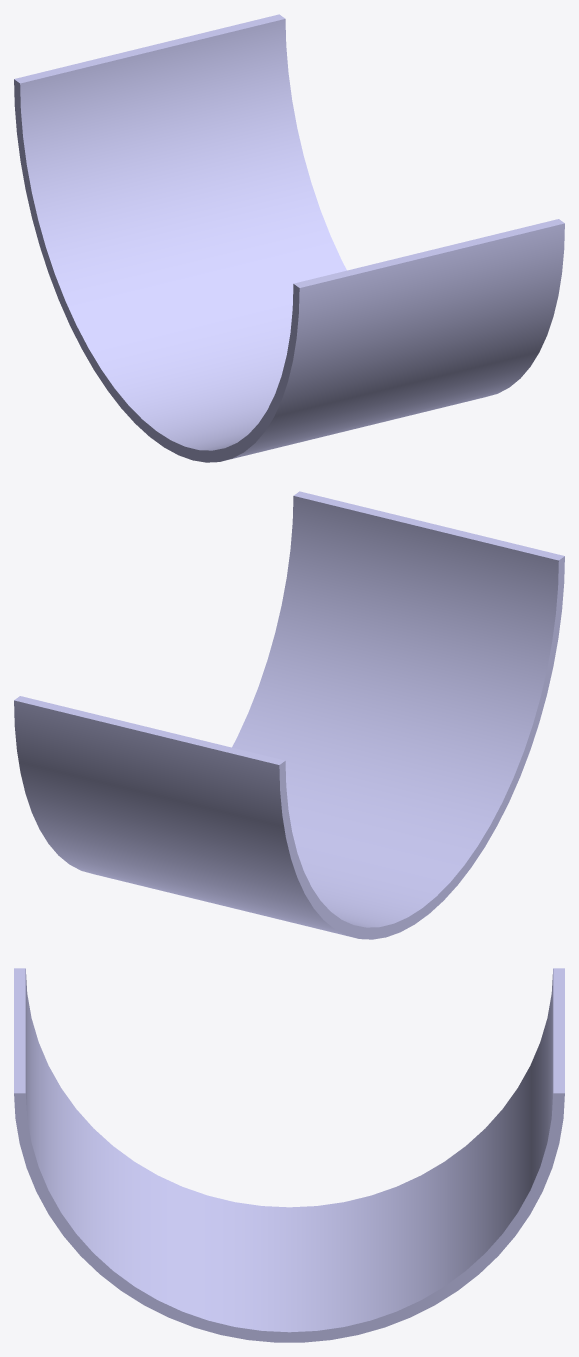
Rendered from etiquete-wrap.gltf.
3 views of the same model, one above another, from view 1: azimuth 30°, elevation 25°; view 2: azimuth 150°, elevation 25°; view 3: azimuth 270°, elevation 25° (orthographic). The views are drawn at different scales.
Parts seen in each view (by area): view 1: etiquete-wrap; view 2: etiquete-wrap; view 3: etiquete-wrap.
Part boxes in pixels (x1,y1,x2,y2): etiquete-wrap: [14, 14, 564, 462]; etiquete-wrap: [14, 491, 564, 939]; etiquete-wrap: [14, 968, 564, 1342].
Bounding box in the file's own units: 0.025 × 0.0233 × 0.0466.
